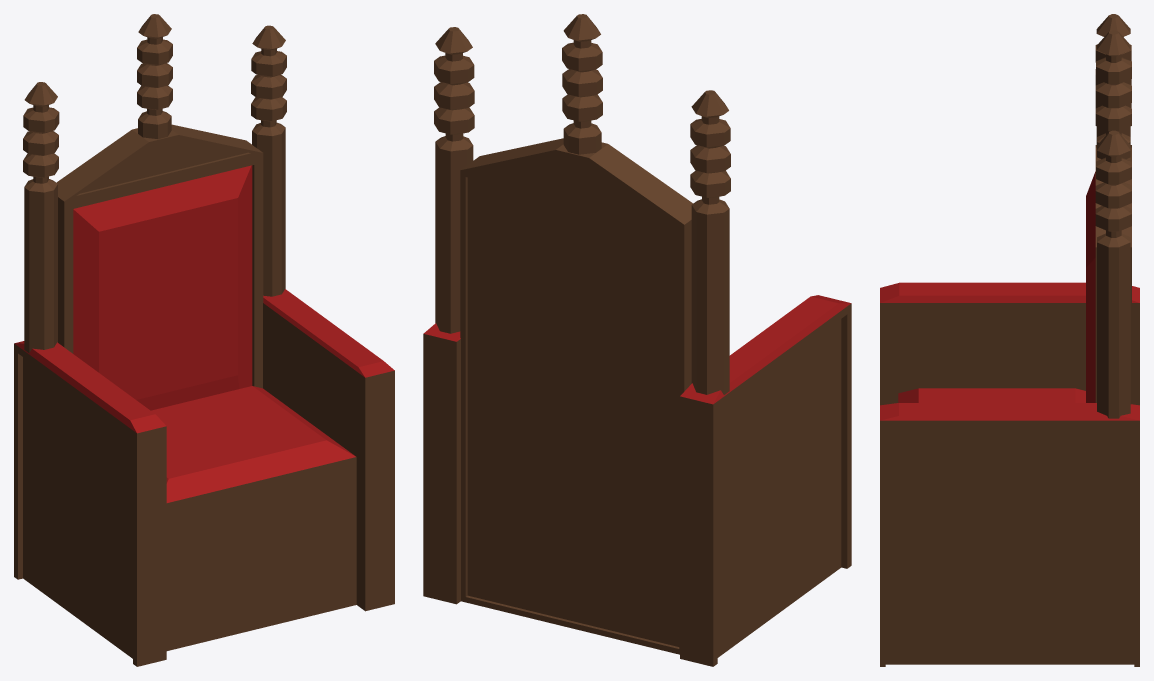
Rendered from decorated_chair.fbx.
3 views of the same model, side by side, from view 1: azimuth 30°, elevation 25°; view 2: azimuth 150°, elevation 25°; view 3: azimuth 270°, elevation 25° (orthographic). The views are drawn at different scales.
Parts seen in each view (by area): view 1: Cube.015; view 2: Cube.015; view 3: Cube.015.
Boxes of the visible parts, box(x1,y1,x2,y2) form: Cube.015: box(14, 14, 394, 666); Cube.015: box(423, 14, 851, 666); Cube.015: box(880, 14, 1139, 666).
Size of the model in its own units: 675 by 1343 by 556.
